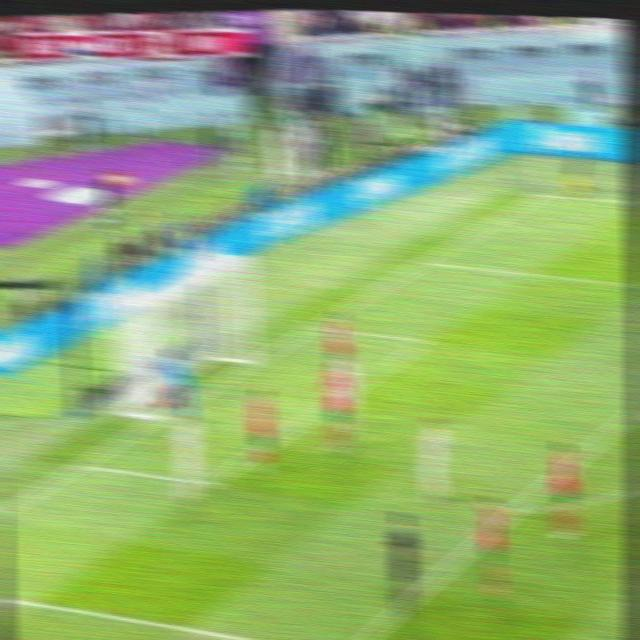bigarea_top_outter: (412, 252, 439, 272)
bottom_arc_area_intersection: (505, 496, 530, 526)
corner: (528, 191, 562, 202)
smallarea_bottom_inner: (195, 470, 224, 499)
smallarea_bottom_outter: (70, 457, 94, 473)
smallarea_top_inner: (412, 327, 440, 355)
smallarea_top_outter: (303, 319, 328, 335)
